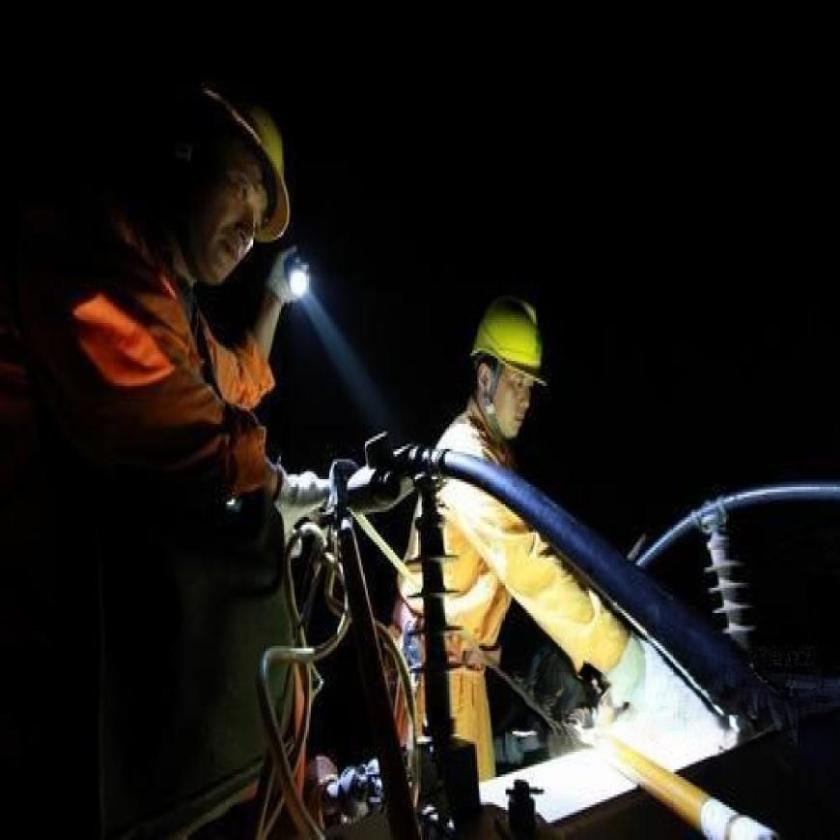Con_casco: (471, 283, 547, 448)
